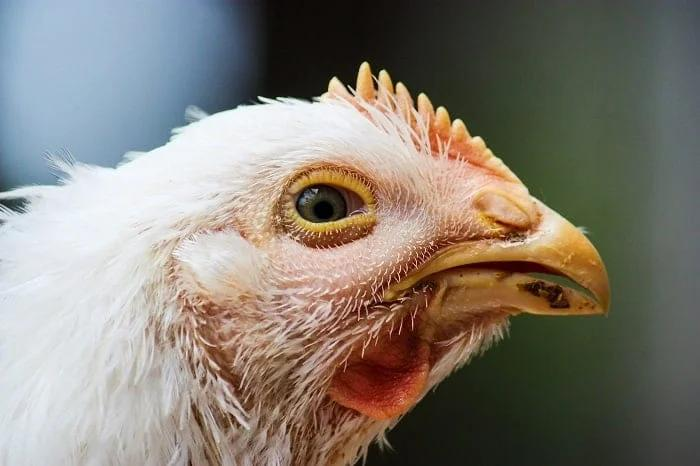AbNormal: (325, 61, 524, 184)
